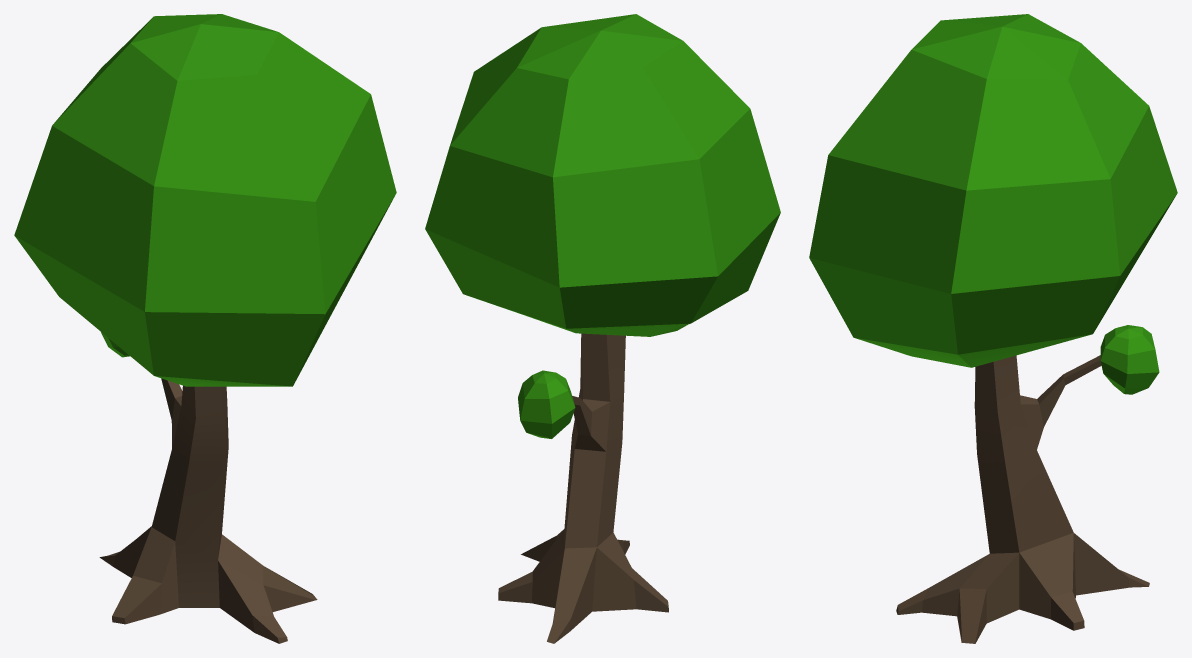
Rendered from Tree01.fbx.
3 renders of one model, left to right at view 1: azimuth 30°, elevation 25°; view 2: azimuth 150°, elevation 25°; view 3: azimuth 270°, elevation 25°, orthographic. The views are drawn at different scales.
Parts seen in each view (by area): view 1: tree01; view 2: tree01; view 3: tree01.
Part boxes in pixels (<box>): tree01: <box>14,14,396,643</box>; tree01: <box>425,14,780,643</box>; tree01: <box>809,14,1177,643</box>.
Size of the model in its own units: 10.82 by 18.68 by 10.9.
Materials: 1 (1 with a texture image).
